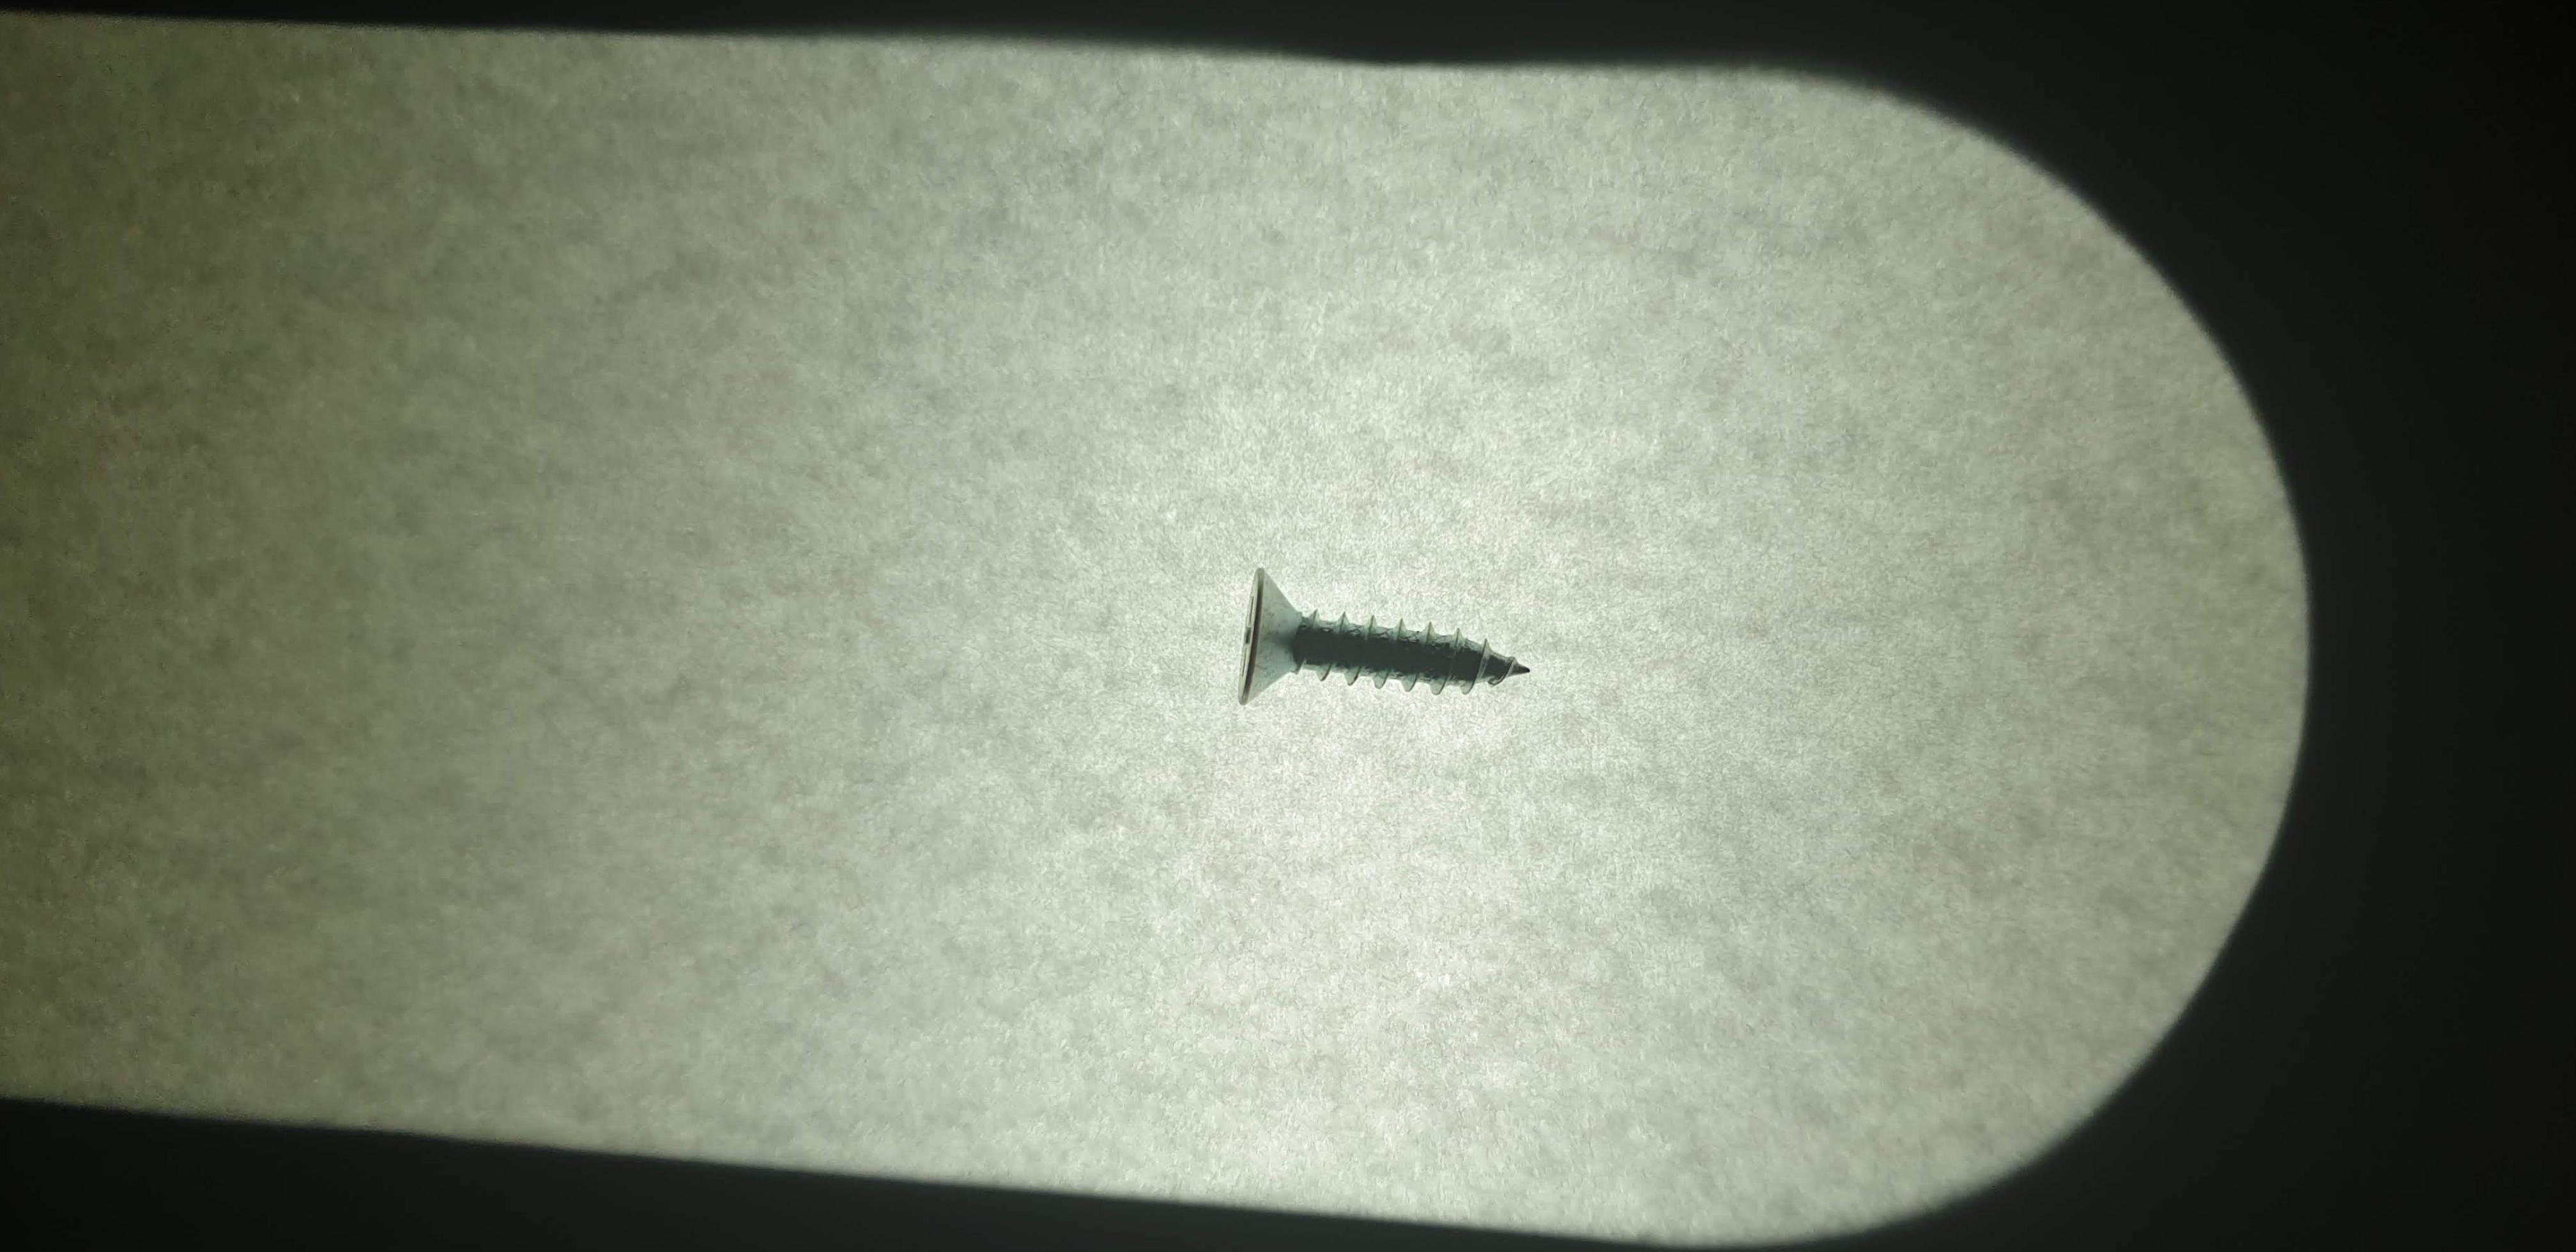S003: (1209, 545, 1546, 736)
